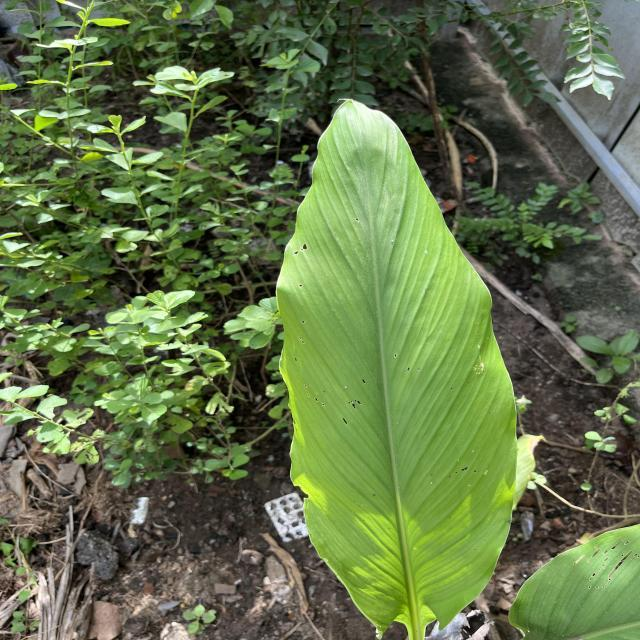Curcuma longa: (273, 95, 521, 640)
